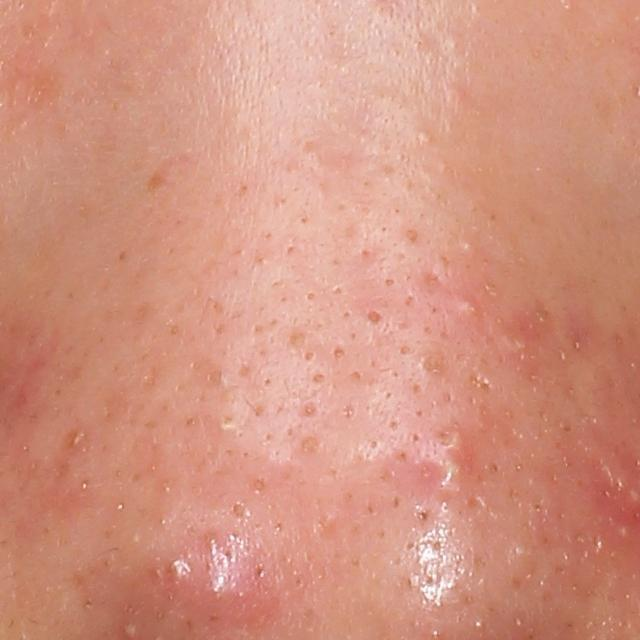comedo: (415, 351, 446, 381), (297, 393, 325, 422), (228, 499, 254, 524), (297, 434, 324, 458), (363, 306, 388, 329), (415, 127, 434, 148), (309, 369, 329, 388), (216, 413, 236, 432), (330, 343, 350, 361), (298, 346, 319, 363), (396, 341, 415, 357)
melasma: (144, 164, 173, 197)
papule: (195, 564, 242, 611), (455, 297, 480, 321)
pustule: (120, 621, 137, 638)
